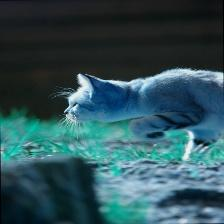kedo: (64, 68, 224, 156)
